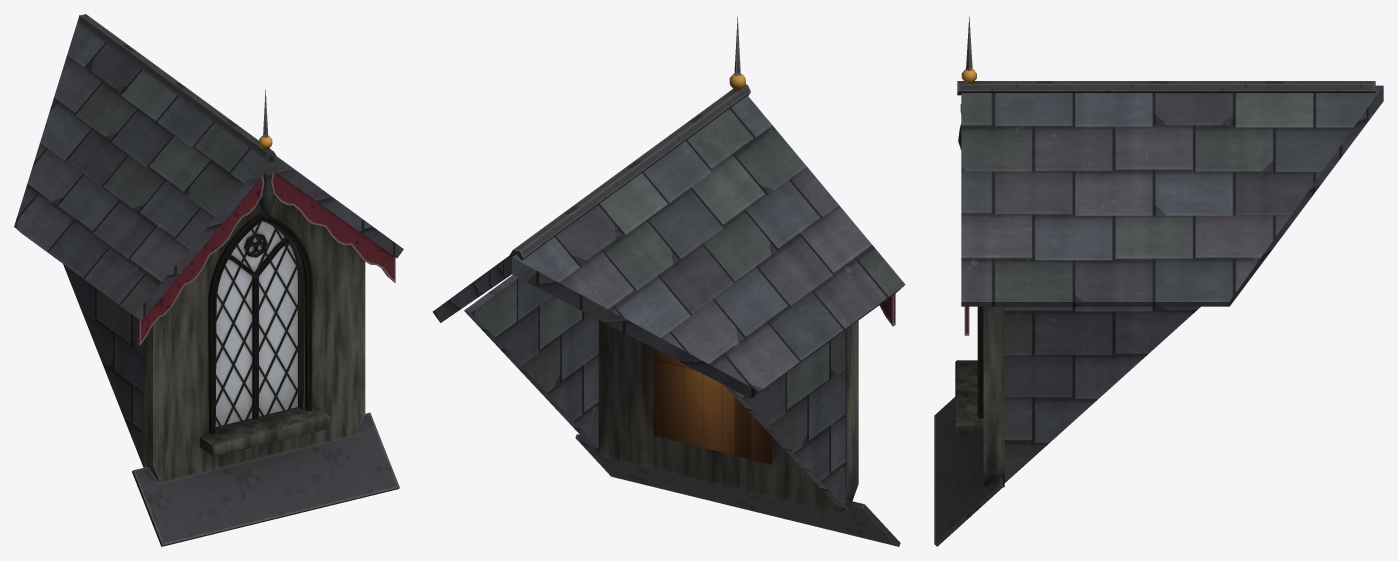
Rendered from GabledDormer.fbx.
The picture shows the model from 3 angles, left to right: view 1: azimuth 30°, elevation 25°; view 2: azimuth 150°, elevation 25°; view 3: azimuth 270°, elevation 25°; orthographic projection. The views are drawn at different scales.
Parts seen in each view (by area): view 1: GabledDormer_Main, GabledDormer_Slate, GabledDormer_Glass; view 2: GabledDormer_Slate, GabledDormer_Main, GabledDormer_Room; view 3: GabledDormer_Slate, GabledDormer_Main.
Part boxes in pixels (box(x1,y1,x2,y2)): GabledDormer_Main: box(77, 14, 399, 546); GabledDormer_Slate: box(14, 15, 403, 467); GabledDormer_Glass: box(215, 221, 297, 426); GabledDormer_Slate: box(432, 95, 905, 508); GabledDormer_Main: box(509, 16, 900, 546); GabledDormer_Room: box(653, 348, 772, 464); GabledDormer_Slate: box(961, 85, 1383, 482); GabledDormer_Main: box(934, 16, 1375, 546).
Size of the model in its own units: 432 by 644 by 560.
